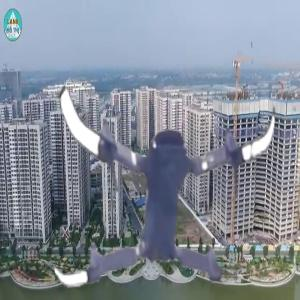drone: (39, 50, 289, 300)
